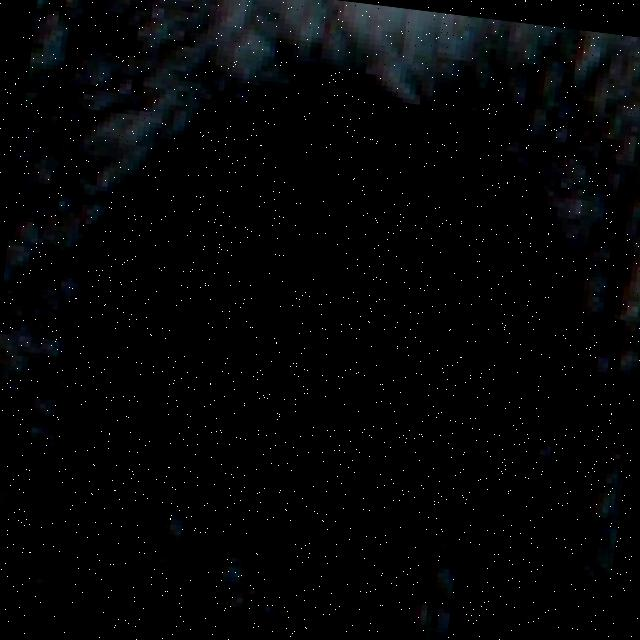Ograniczenie predkosci do 80: (53, 56, 606, 578)
